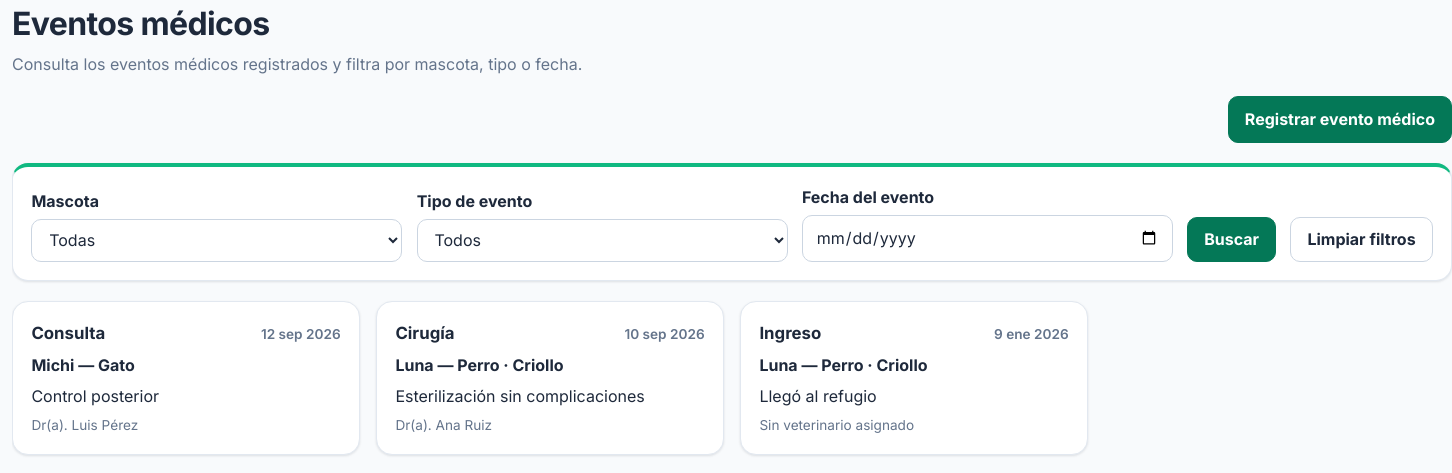
Scenario: MedicalEventsPage › filters by pet, type and day and sends the filters to the back-end
Select "Luna — Perro" in the dropdown labelled "Mascota": (217, 240) 31,219 -> 402,262
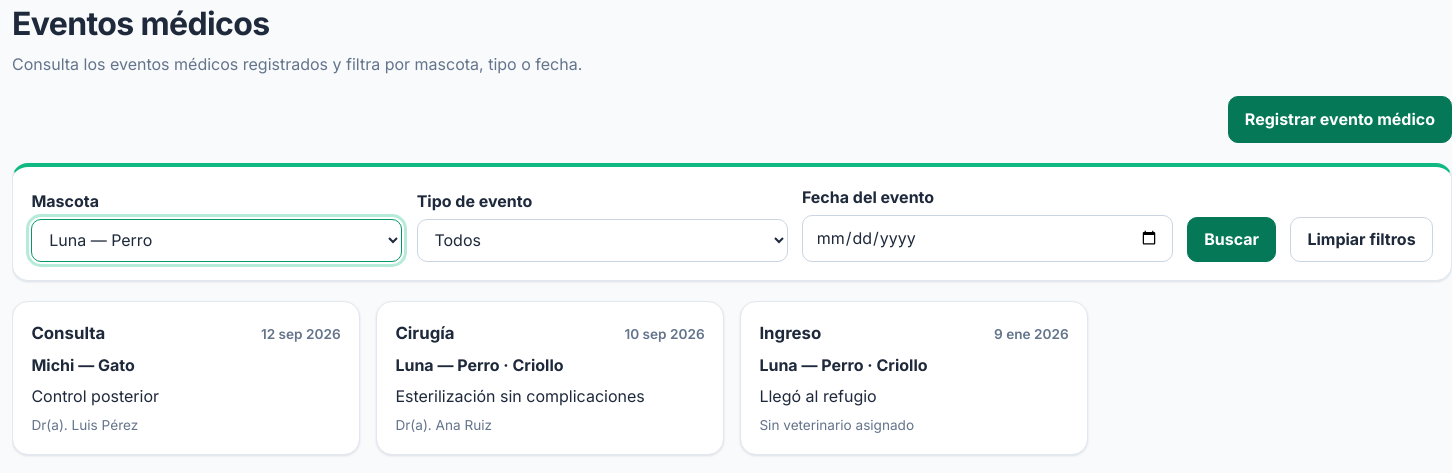
Select "Cirugía" in the dropdown labelled "Tipo de evento": (602, 240) 417,219 -> 788,262
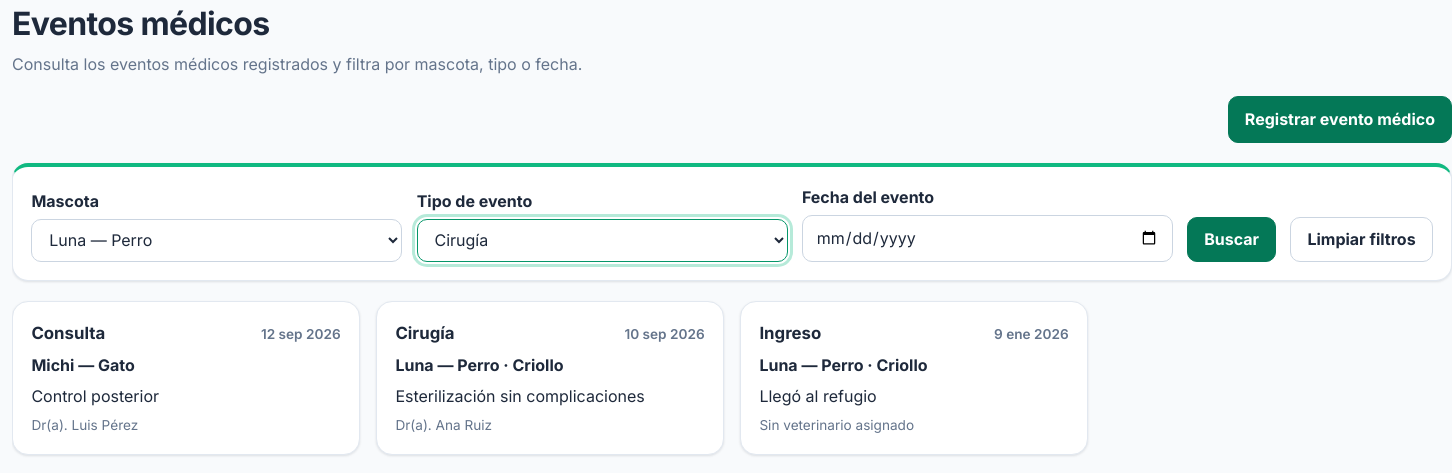
In the date field labelled "Fecha del evento": (987, 238) 802,215 -> 1173,262, type "2026-09-10"
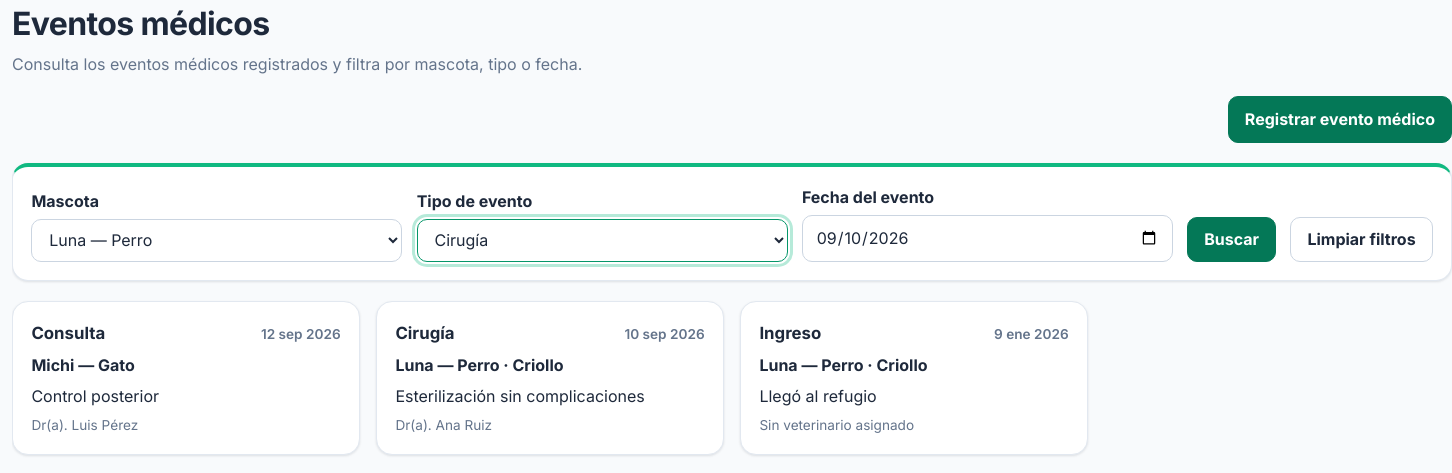
Click the button "Buscar": click(1232, 239) 1187,217 -> 1276,262
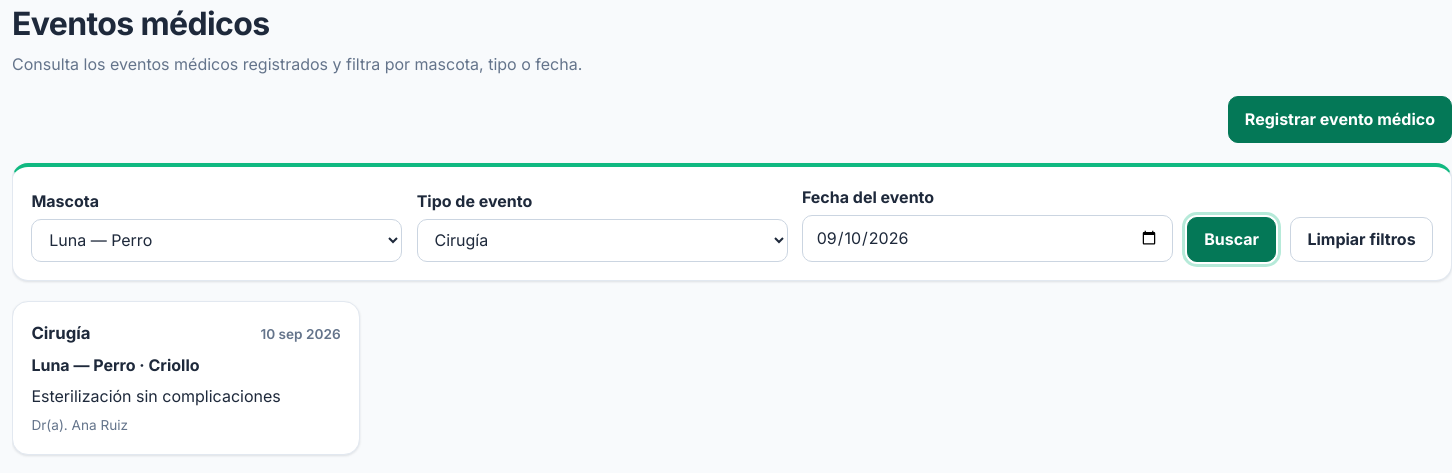
Expected: the link "Cirugía" is shown, 31,323 -> 90,343
Expected: the number of list items is 1, 12,301 -> 360,455
